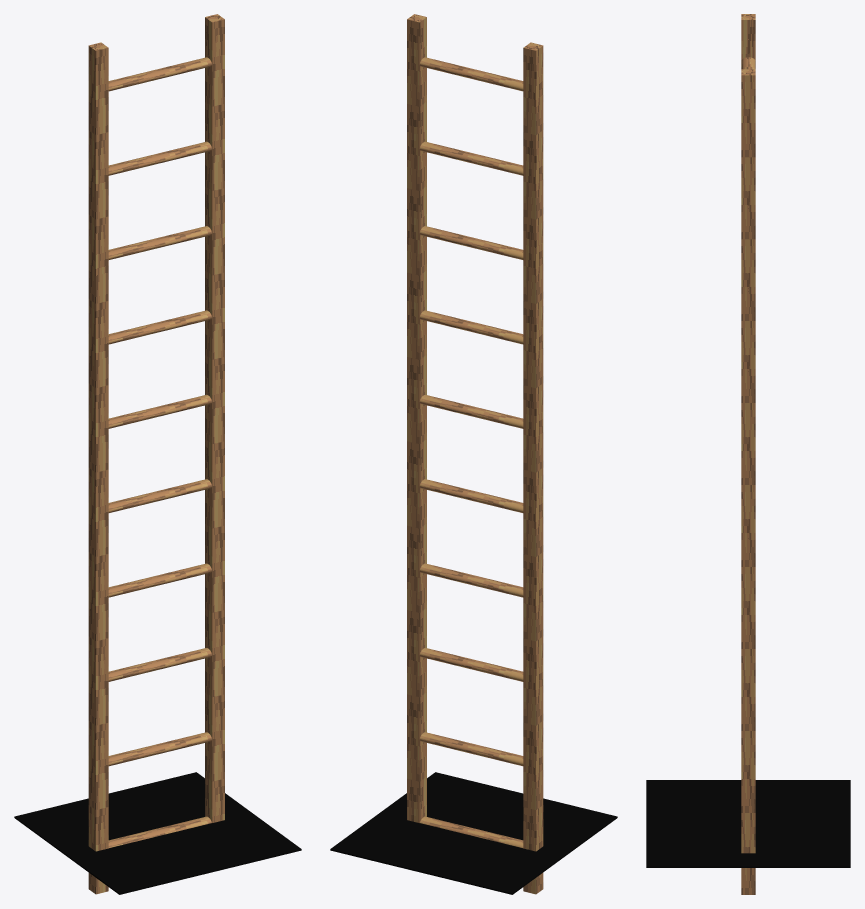
File: hasi.glb
3 renders of one model, left to right at view 1: azimuth 30°, elevation 25°; view 2: azimuth 150°, elevation 25°; view 3: azimuth 270°, elevation 25°, orthographic. The views are drawn at different scales.
Visible parts, largest first — view 1: 立方体.001; view 2: 立方体.001; view 3: 立方体.001.
Boxes of the visible parts, x1,y1,x2,y2 form: 立方体.001: (14, 14, 301, 894); 立方体.001: (330, 14, 617, 894); 立方体.001: (646, 14, 850, 894).
Size of the model in its own units: 1.03 by 4.57 by 1.03.
Materials: 2 (1 with a texture image).
